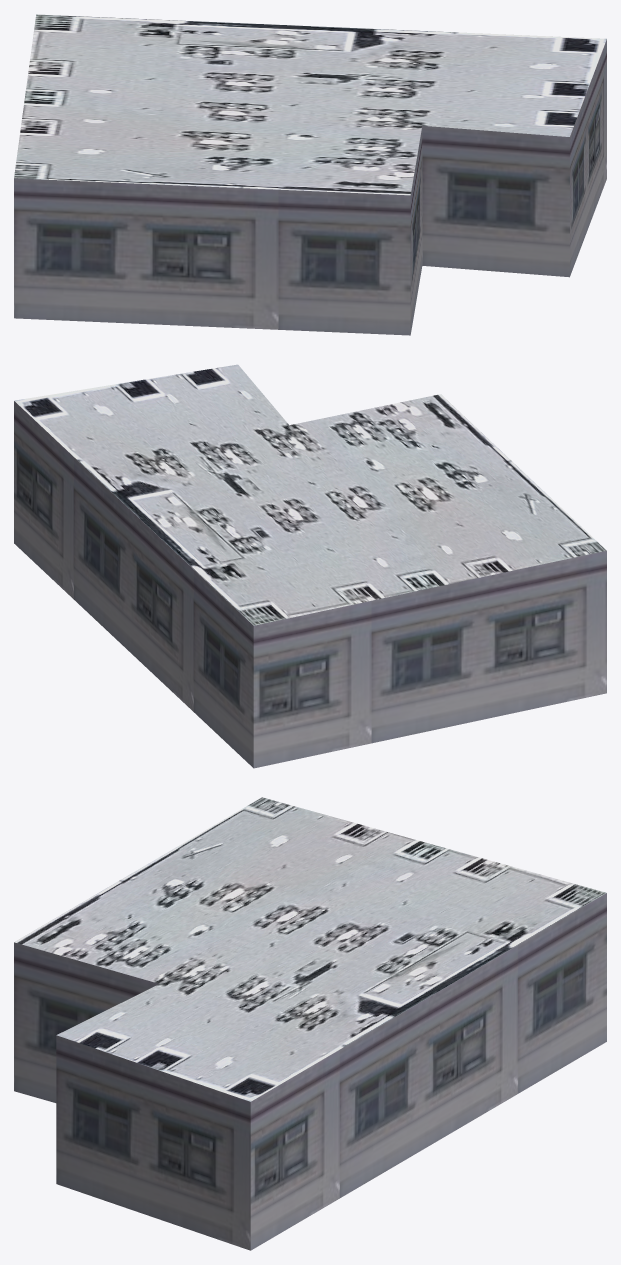
File: ResTex__4120.fbx
3 renders of one model, top to bottom at view 1: azimuth 30°, elevation 25°; view 2: azimuth 150°, elevation 25°; view 3: azimuth 270°, elevation 25°, orthographic. The views are drawn at different scales.
Parts seen in each view (by area): view 1: CityEngineMaterial_1_m, CityEngineMaterial_4_m; view 2: CityEngineMaterial_1_m, CityEngineMaterial_4_m; view 3: CityEngineMaterial_1_m, CityEngineMaterial_4_m.
Part boxes in pixels (left/top/right/bottom): CityEngineMaterial_1_m: left=14, top=39, right=606, bottom=335; CityEngineMaterial_4_m: left=14, top=14, right=606, bottom=195; CityEngineMaterial_1_m: left=14, top=401, right=606, bottom=768; CityEngineMaterial_4_m: left=14, top=364, right=606, bottom=625; CityEngineMaterial_1_m: left=14, top=893, right=606, bottom=1250; CityEngineMaterial_4_m: left=14, top=797, right=606, bottom=1101.
Bounding box in the file's own units: 13.17 × 3 × 10.83.
2 materials, 2 textured.
